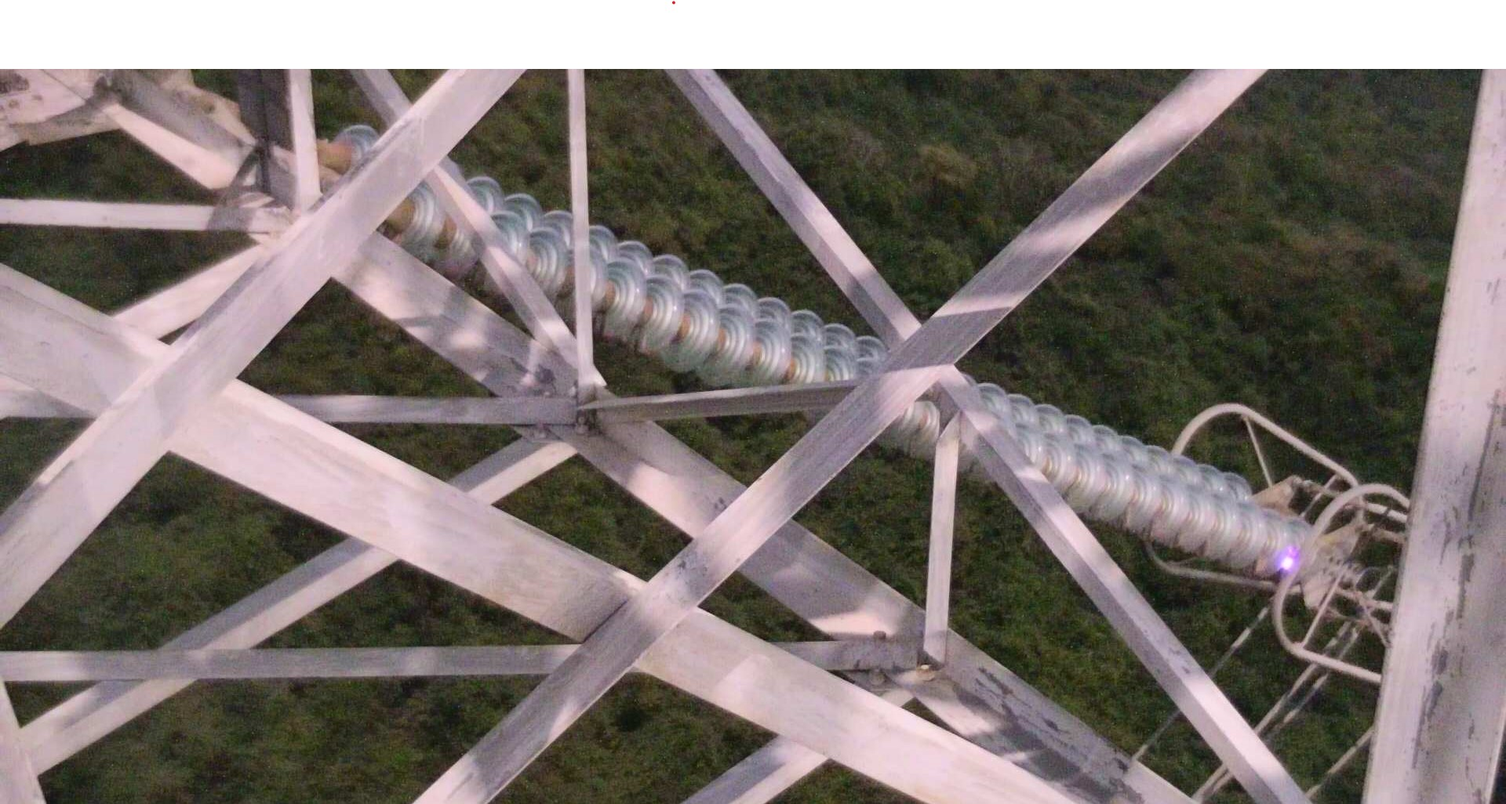绝缘子污闪: (1273, 545, 1300, 575)
